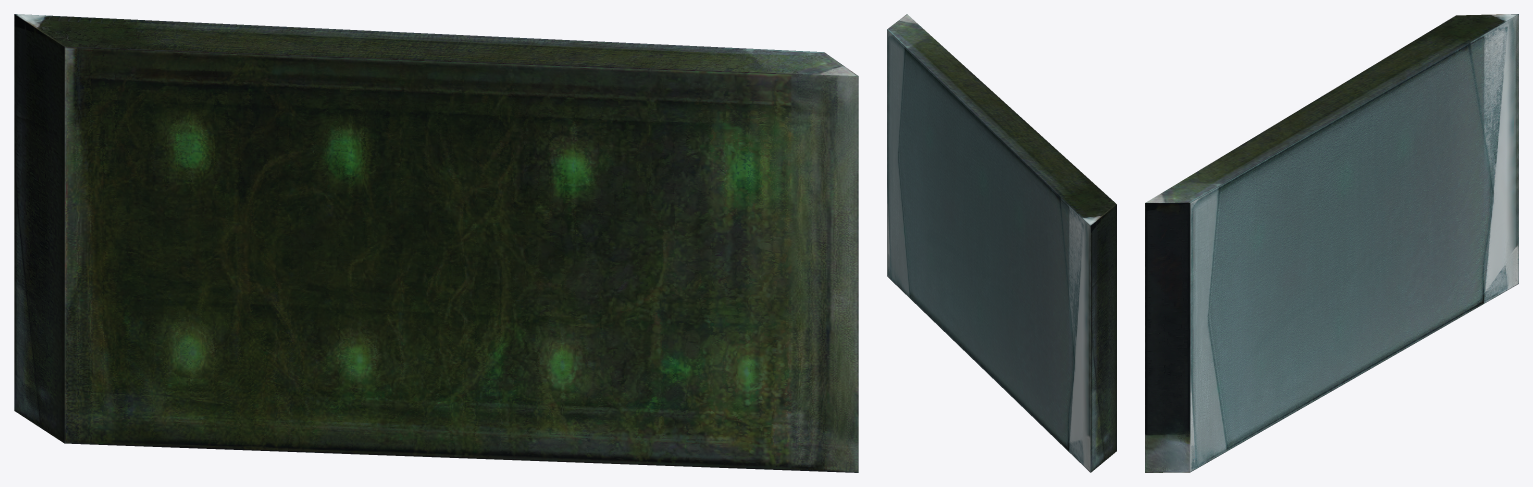
File: murs_cible_left_lvl_1.glb
3 views of the same model, side by side, from view 1: azimuth 30°, elevation 25°; view 2: azimuth 150°, elevation 25°; view 3: azimuth 270°, elevation 25° (orthographic). The views are drawn at different scales.
Parts seen in each view (by area): view 1: Mesh_0.004; view 2: Mesh_0.004; view 3: Mesh_0.004.
Part boxes in pixels (bbox=[...]): Mesh_0.004: bbox=[14, 14, 858, 472]; Mesh_0.004: bbox=[887, 14, 1116, 472]; Mesh_0.004: bbox=[1145, 14, 1518, 472].
Bounding box in the file's own units: 0.1347 × 0.0896 × 0.1125.
1 material, 1 textured.
